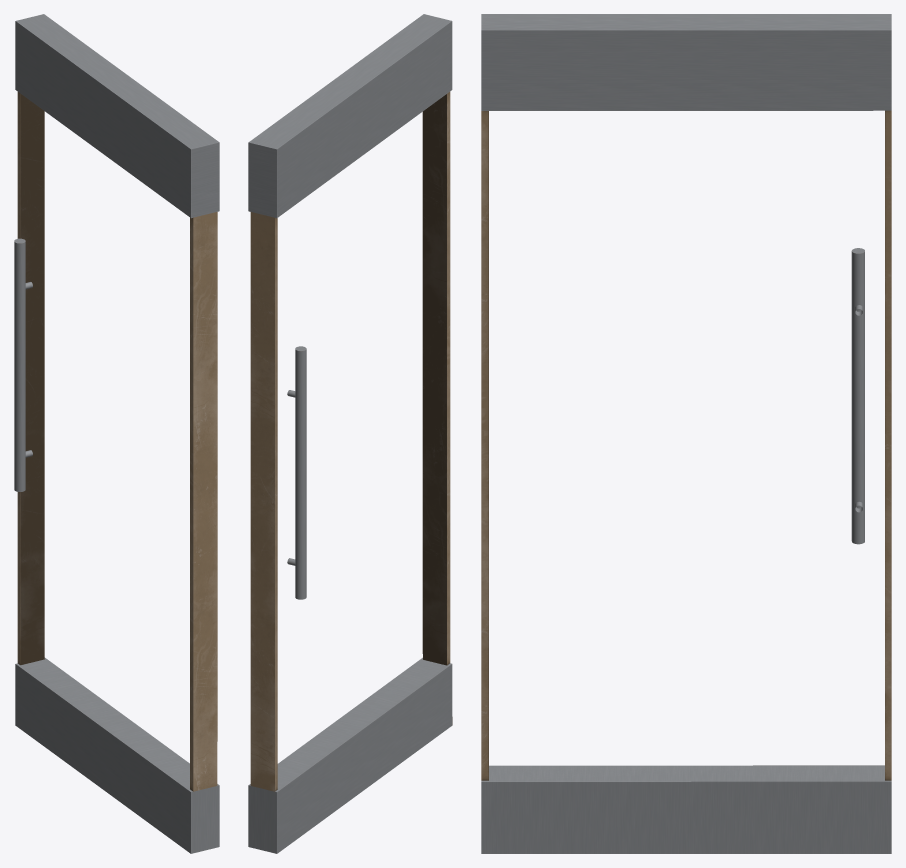
The model's file is SM_105_Door_11_2_3.fbx.
3 renders of one model, left to right at view 1: azimuth 30°, elevation 25°; view 2: azimuth 150°, elevation 25°; view 3: azimuth 270°, elevation 25°, orthographic. The views are drawn at different scales.
Parts seen in each view (by area): view 1: SM_105_Door_11_2_3; view 2: SM_105_Door_11_2_3; view 3: SM_105_Door_11_2_3.
Part boxes in pixels (left/top/right/bottom): SM_105_Door_11_2_3: left=14, top=14, right=219, bottom=853; SM_105_Door_11_2_3: left=248, top=14, right=452, bottom=853; SM_105_Door_11_2_3: left=481, top=14, right=891, bottom=853.
Bounding box in the file's own units: 15.62 × 110 × 243.
1 material, 1 textured.
